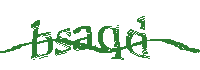a: (73, 23, 94, 52)
b: (30, 19, 53, 58)
d: (123, 16, 151, 61)
q: (95, 22, 125, 63)
s: (54, 24, 74, 60)
